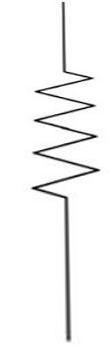resistor: (24, 41, 101, 218)
